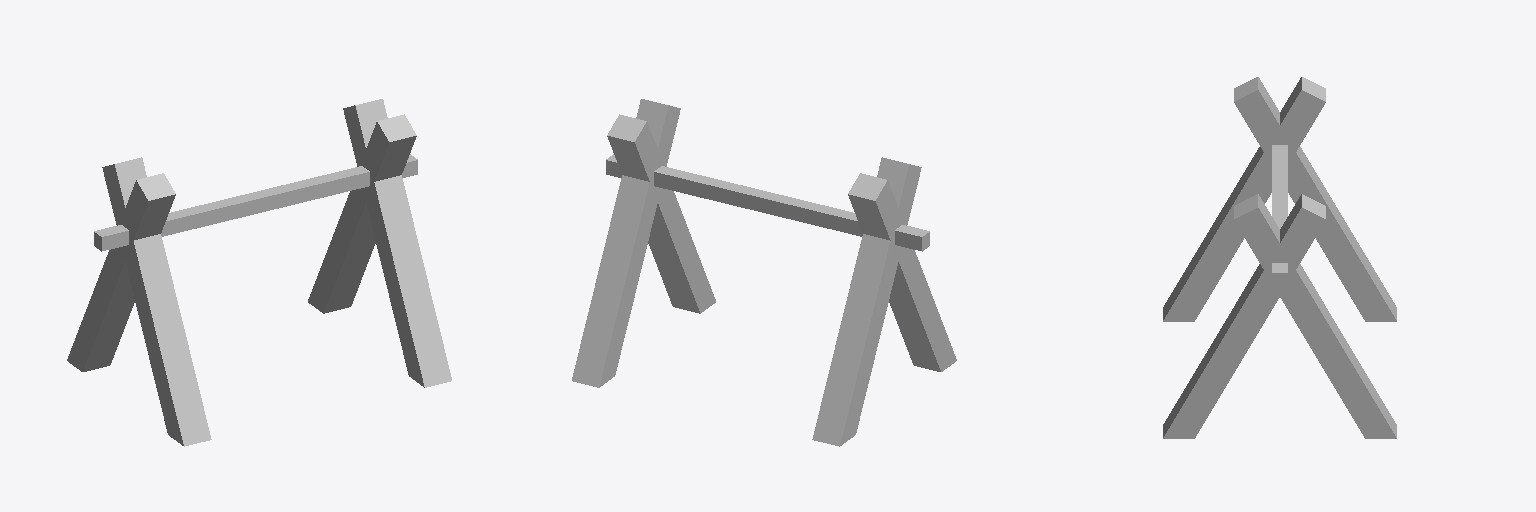
Rendered from fishingStand.obj.
3 views of the same model, side by side, from view 1: azimuth 30°, elevation 25°; view 2: azimuth 150°, elevation 25°; view 3: azimuth 270°, elevation 25° (orthographic).
Parts seen in each view (by area): view 1: fishingStand; view 2: fishingStand; view 3: fishingStand.
Part boxes in pixels (x1,y1,x2,y2): fishingStand: (67,99,451,446); fishingStand: (572,99,956,446); fishingStand: (1163,77,1396,438).
Bounding box in the file's own units: 0.3945 × 0.276 × 0.2533.